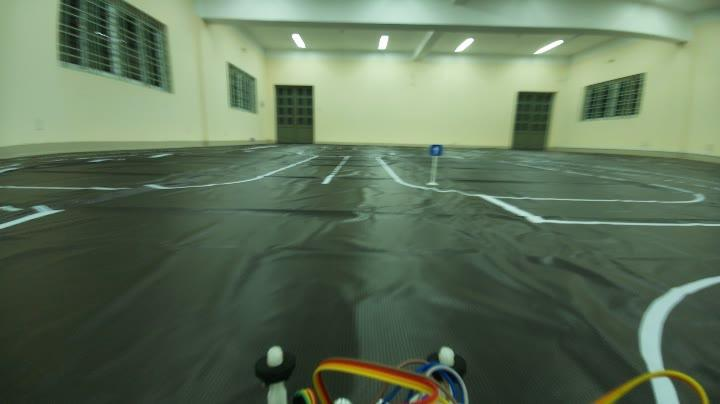onewayroad: (424, 140, 445, 162)
